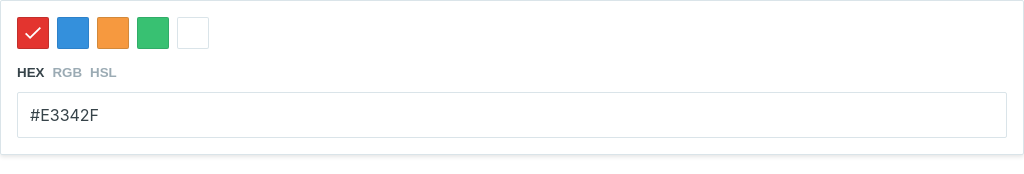
ColorPicker › Color code › displays the code in the right color when changing color
Click the 3rd list item with class "swatch": (113, 33) [97,17,129,49]
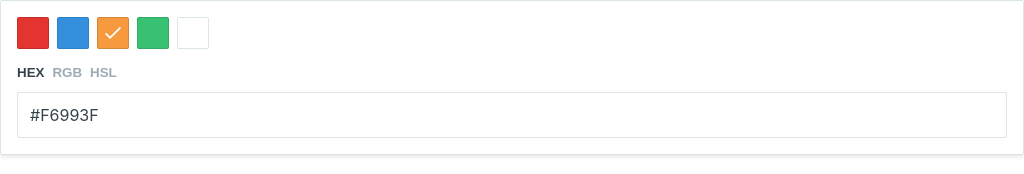
Now the text with class "color-code" reads "#f6993f", box [30,105,99,125]
